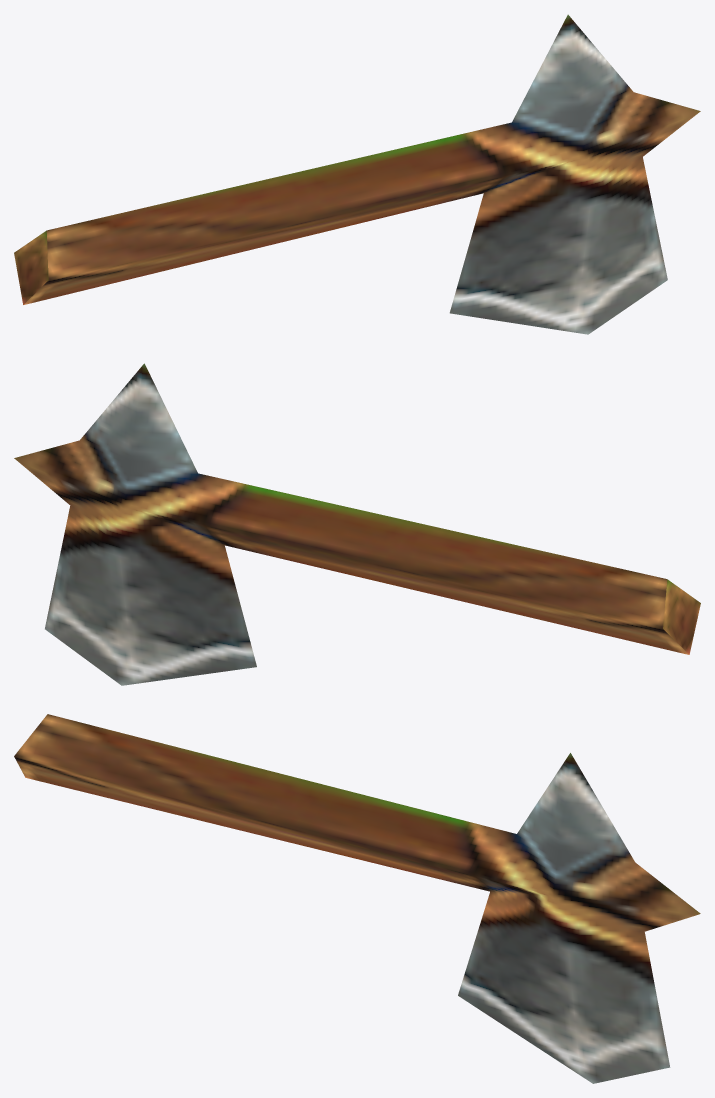
Rendered from ORC_weapon_Axe_A.gltf.
The picture shows the model from 3 angles, top to bottom: view 1: azimuth 30°, elevation 25°; view 2: azimuth 150°, elevation 25°; view 3: azimuth 330°, elevation 25°; orthographic projection.
Visible parts, largest first — view 1: ORC_weapon_Axe_A; view 2: ORC_weapon_Axe_A; view 3: ORC_weapon_Axe_A.
Part boxes in pixels (x1=…): ORC_weapon_Axe_A: x1=14, y1=14, x2=700, y2=334; ORC_weapon_Axe_A: x1=14, y1=363, x2=700, y2=685; ORC_weapon_Axe_A: x1=14, y1=714, x2=700, y2=1083.
Size of the model in its own units: 0.8888 by 0.4102 by 0.0832.
1 material, 1 textured.
